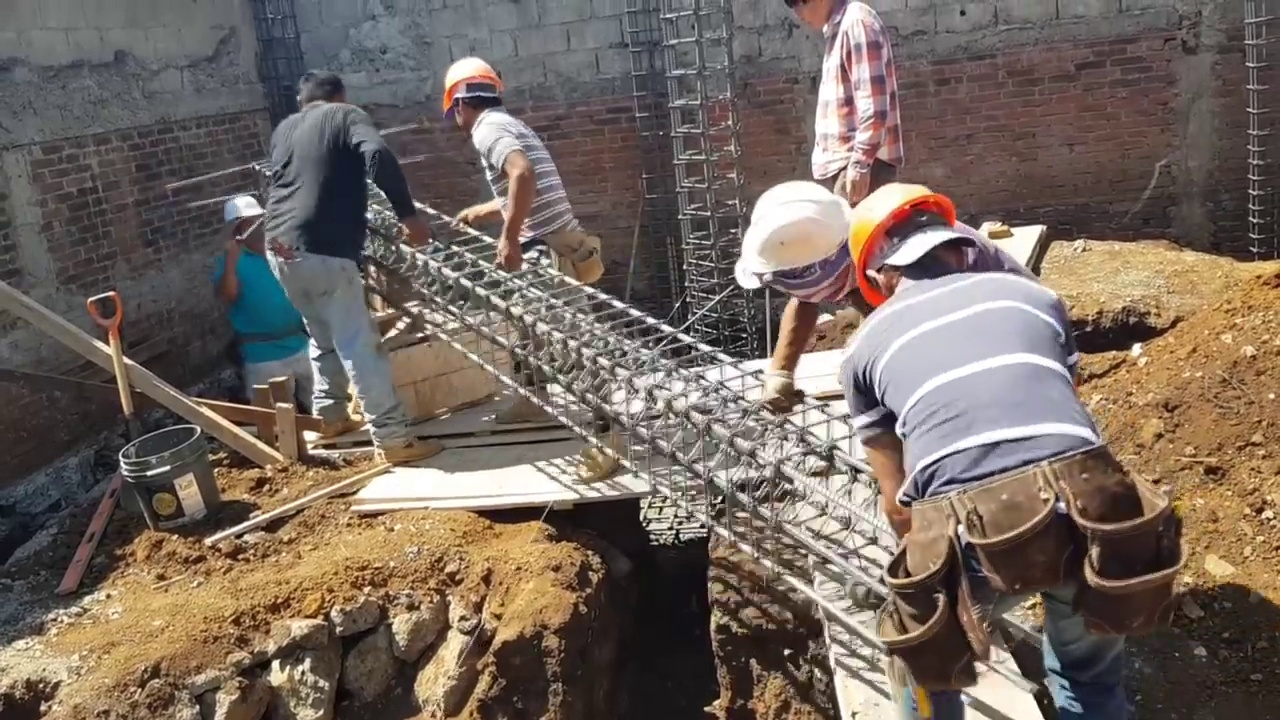helmet: (847, 176, 956, 303), (738, 182, 854, 282), (436, 56, 501, 109), (216, 192, 266, 226)
helmet-off: (292, 68, 343, 109)
helmet-on: (726, 176, 868, 331), (848, 167, 999, 306), (444, 44, 506, 138), (215, 195, 261, 255)
person: (806, 159, 1185, 713), (264, 41, 427, 453), (446, 59, 606, 306), (207, 185, 307, 416), (792, 10, 901, 196)
